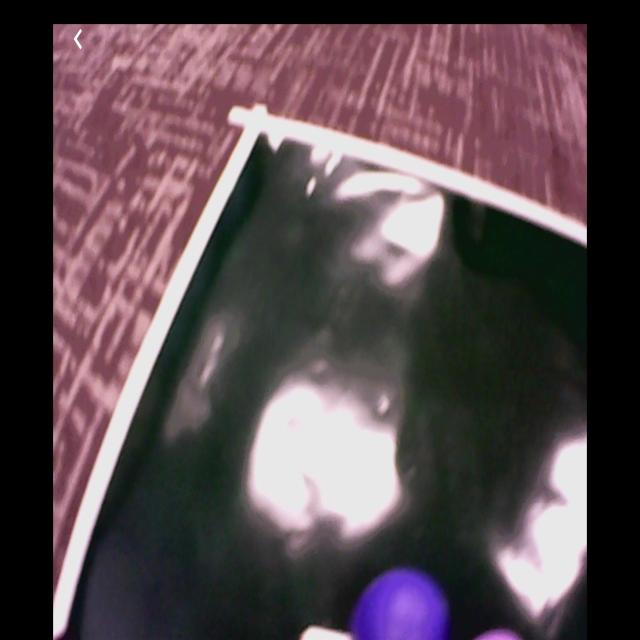ball: (351, 574, 454, 639), (472, 630, 528, 640)
